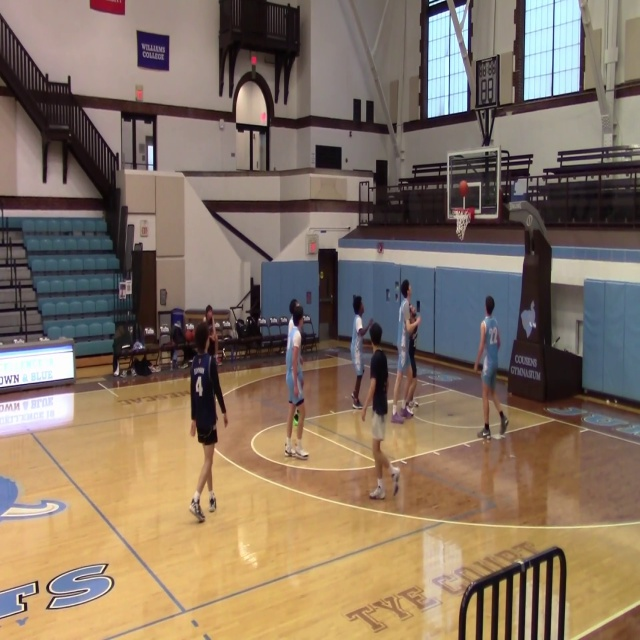Basketball: (459, 180, 468, 196)
